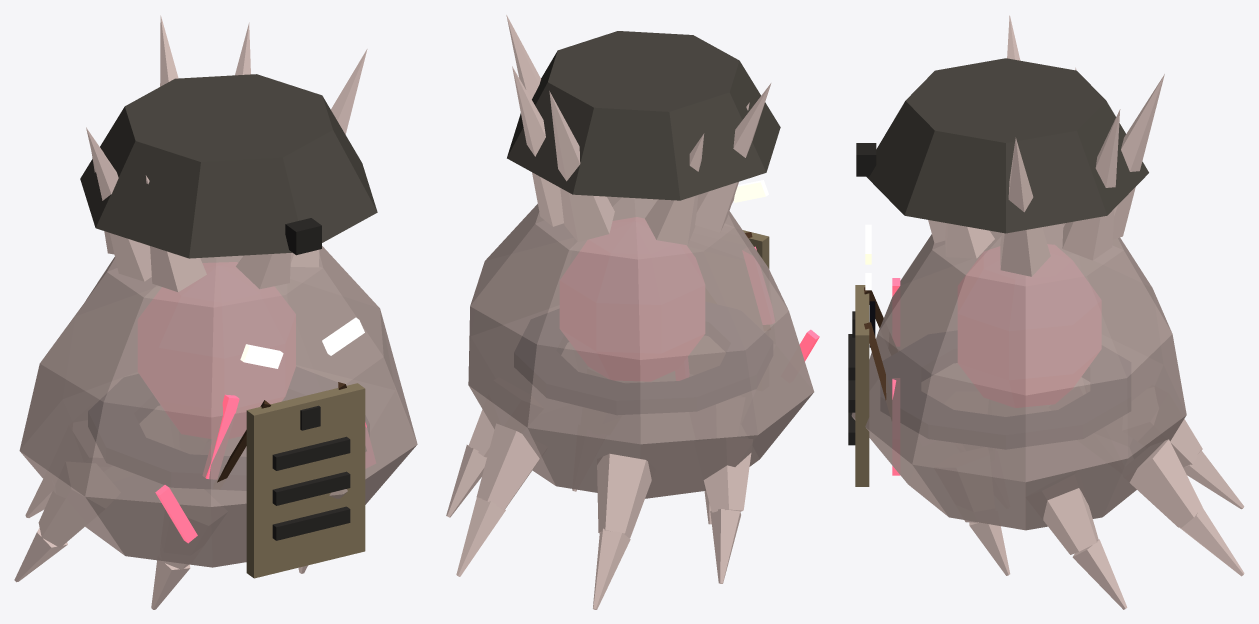
File: soul_old_number.glb
3 renders of one model, left to right at view 1: azimuth 30°, elevation 25°; view 2: azimuth 150°, elevation 25°; view 3: azimuth 270°, elevation 25°, orthographic. The views are drawn at different scales.
Parts seen in each view (by area): view 1: soul_old_number; view 2: soul_old_number; view 3: soul_old_number.
Part boxes in pixels (left/top/right/bottom): soul_old_number: left=14, top=15, right=417, bottom=609; soul_old_number: left=446, top=15, right=819, bottom=609; soul_old_number: left=848, top=15, right=1244, bottom=609.
Bounding box in the file's own units: 0.9285 × 1.32 × 0.9938.
